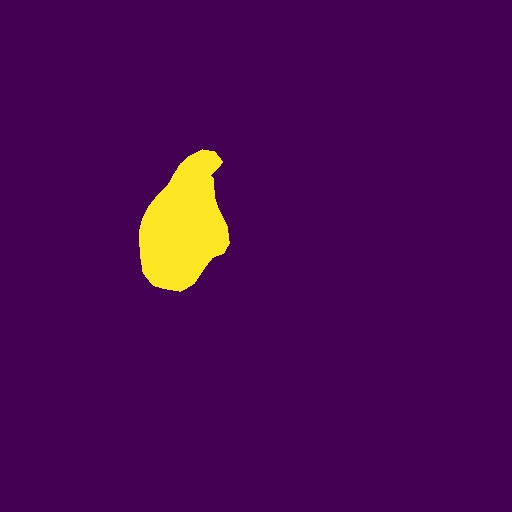Gliomia_tumour: (139, 149, 230, 292)
